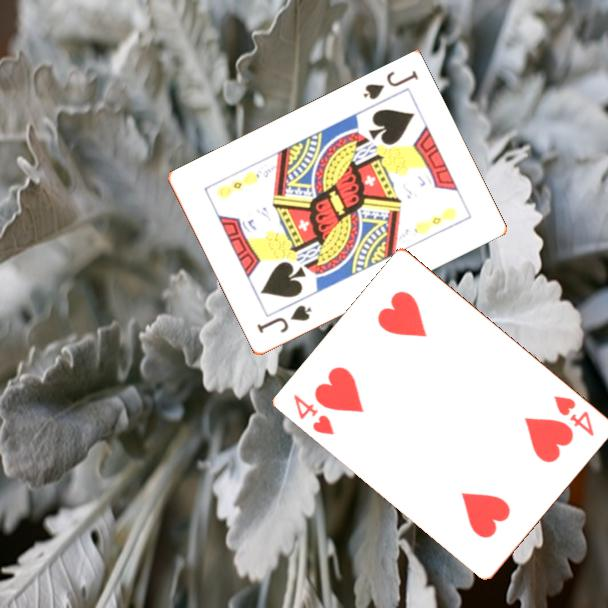h04: (290, 391, 338, 438), (550, 392, 597, 439)
s11: (359, 67, 421, 103), (253, 302, 314, 336)
